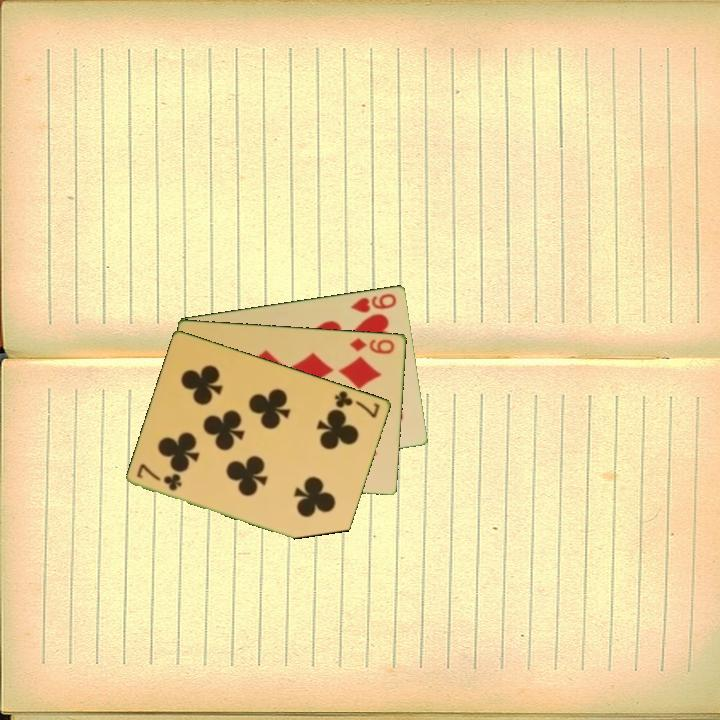7c: (331, 387, 383, 421), (134, 460, 185, 494)
9d: (346, 334, 398, 357)
9h: (348, 290, 399, 315)
